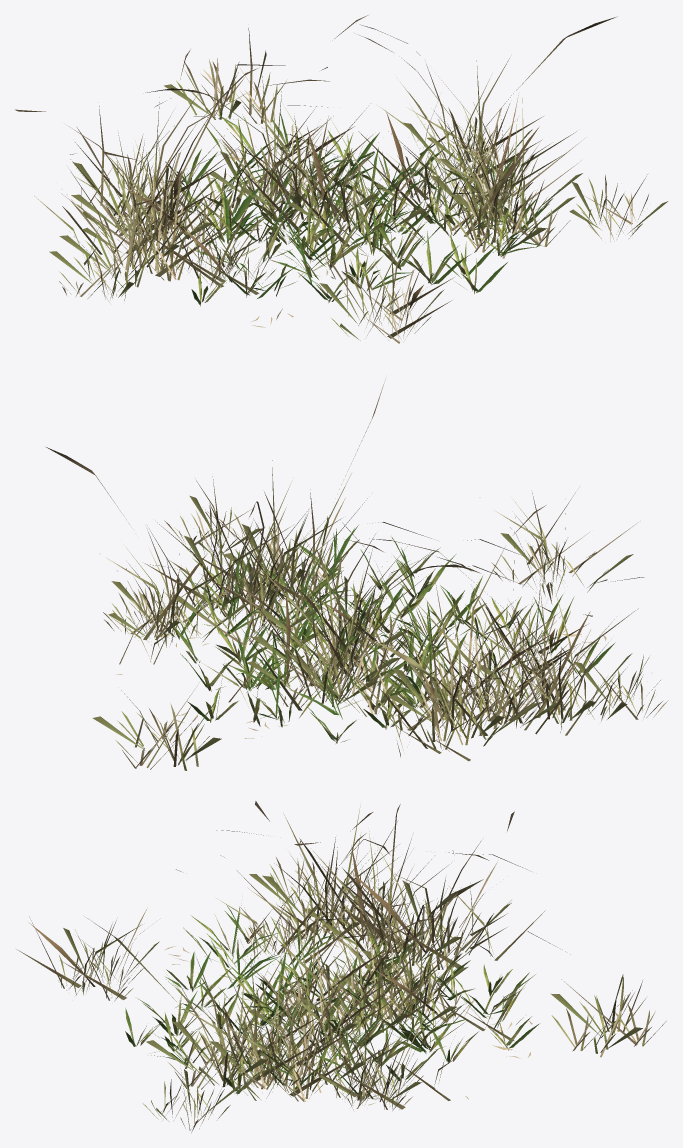
File: wukong-grass-clumps-lod.glb
3 views of the same model, one above another, from view 1: azimuth 30°, elevation 25°; view 2: azimuth 150°, elevation 25°; view 3: azimuth 270°, elevation 25° (orthographic). The views are drawn at different scales.
Visible parts, largest first — view 1: Grass_Tall_LOD, Grass_Lush_LOD, Grass_Short_LOD; view 2: Grass_Tall_LOD, Grass_Lush_LOD, Grass_Short_LOD; view 3: Grass_Tall_LOD, Grass_Lush_LOD, Grass_Short_LOD.
Part boxes in pixels (box(x1,y1,x2,y2)): Grass_Tall_LOD: box(15, 15, 668, 343); Grass_Lush_LOD: box(165, 113, 549, 306); Grass_Short_LOD: box(169, 112, 548, 304); Grass_Tall_LOD: box(46, 378, 668, 770); Grass_Lush_LOD: box(152, 525, 611, 743); Grass_Short_LOD: box(168, 528, 615, 743); Grass_Tall_LOD: box(16, 801, 666, 1132); Grass_Lush_LOD: box(126, 906, 535, 1100); Grass_Short_LOD: box(125, 907, 539, 1097).
Size of the model in its own units: 1.31 by 0.363 by 1.31.
Materials: 4 (4 with a texture image).
